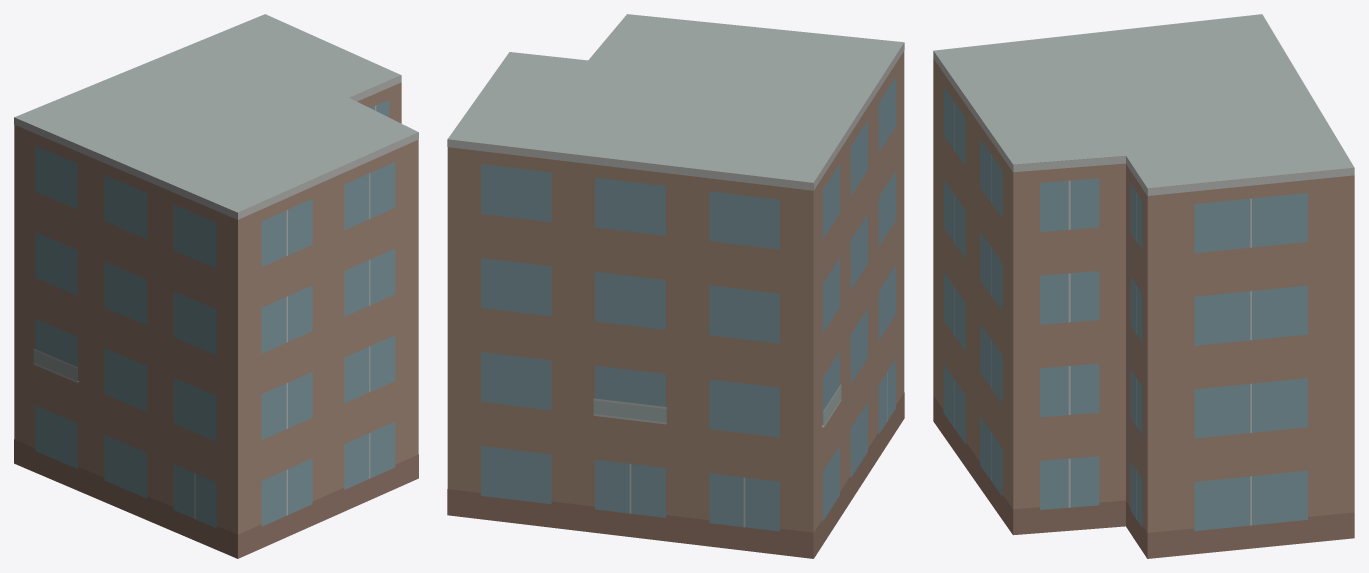
File: survey-upis-32743111.glb
3 renders of one model, left to right at view 1: azimuth 30°, elevation 25°; view 2: azimuth 150°, elevation 25°; view 3: azimuth 270°, elevation 25°, orthographic. The views are drawn at different scales.
Parts seen in each view (by area): view 1: survey-upis-32743111.tmp; view 2: survey-upis-32743111.tmp; view 3: survey-upis-32743111.tmp.
Boxes of the visible parts, x1,y1,x2,y2 form: survey-upis-32743111.tmp: (14,14,418,558); survey-upis-32743111.tmp: (447,14,904,558); survey-upis-32743111.tmp: (933,14,1354,558).
Size of the model in its own units: 11.81 by 11.7 by 12.06.
